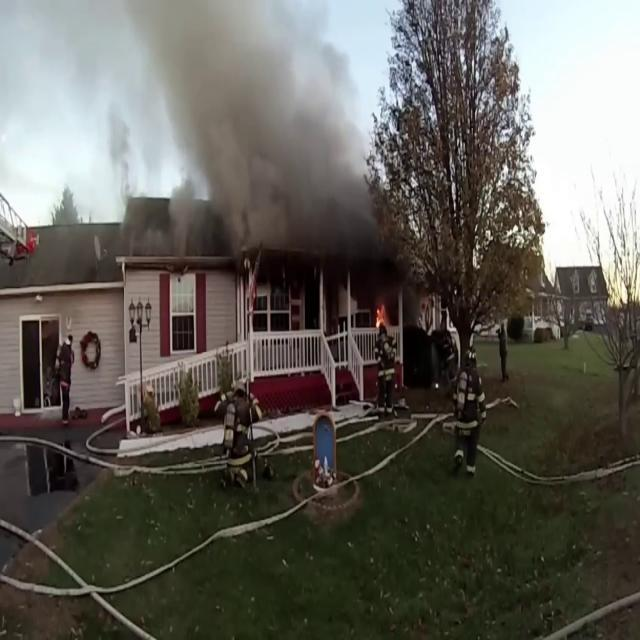Fire: (373, 294, 389, 334)
Smoke: (42, 1, 384, 258)
